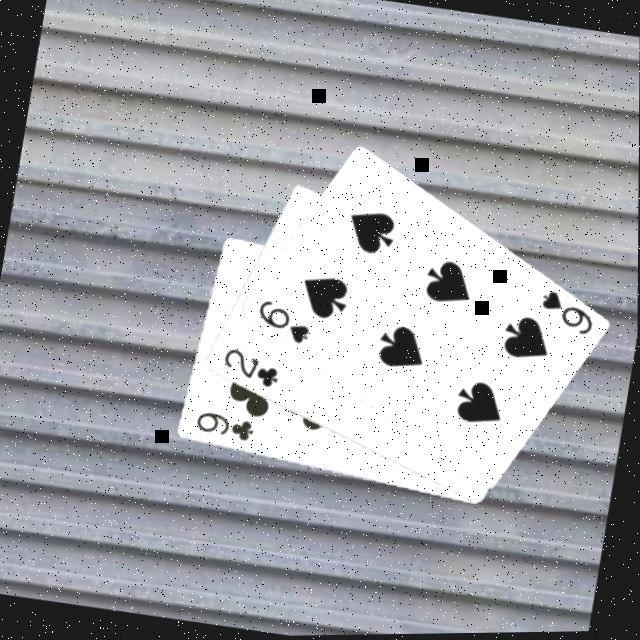2C: (216, 342, 285, 393)
6S: (534, 286, 600, 341), (250, 294, 316, 348)
9C: (190, 407, 259, 448)
